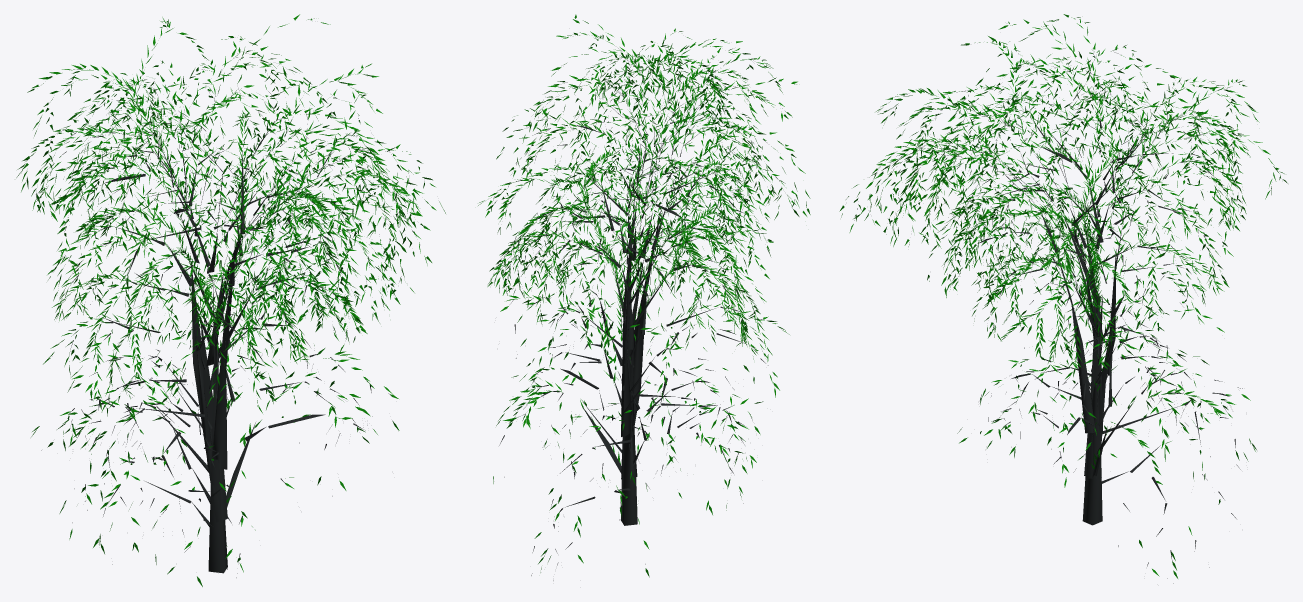
Rendered from tree-v4-min.glb.
3 views of the same model, side by side, from view 1: azimuth 30°, elevation 25°; view 2: azimuth 150°, elevation 25°; view 3: azimuth 270°, elevation 25° (orthographic). The views are drawn at different scales.
Bounding box in the file's own units: 12.77 × 21.71 × 16.69.
2 materials, 2 textured.
